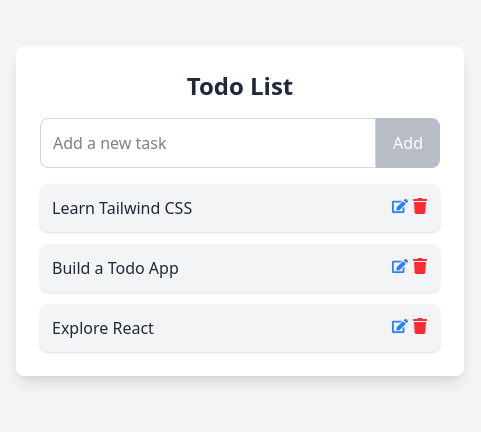
it: App › should add a new todo
In the field with placeholder "Add a new task": (208, 143) [40,118,376,168], type "Learn WebGL"
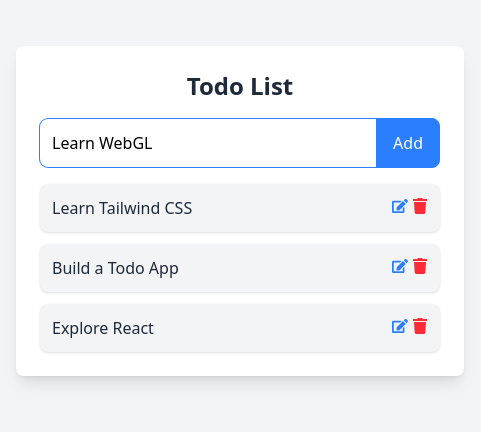
Click the button "Add": click(408, 143) [376,118,440,168]
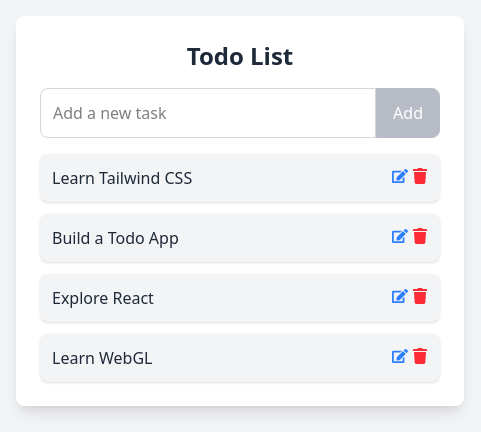
Result: the text "Learn WebGL" is shown at [52,346,152,370]
